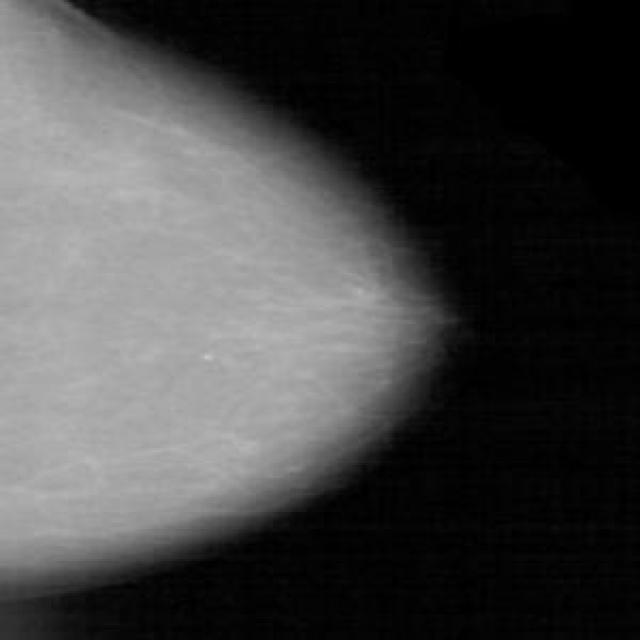tumor: (318, 254, 392, 384)
